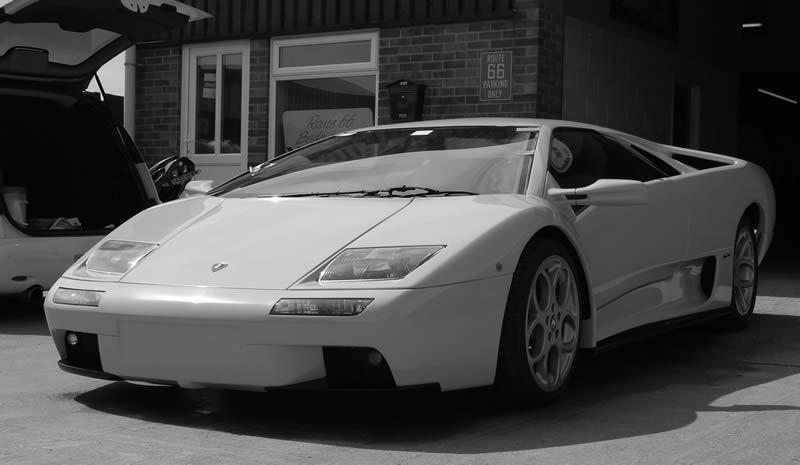car: (42, 112, 783, 424)
